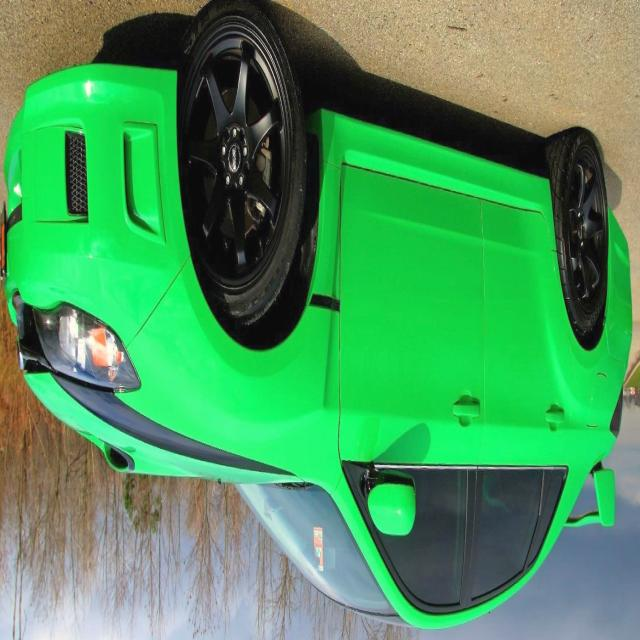green: (0, 4, 634, 628)
